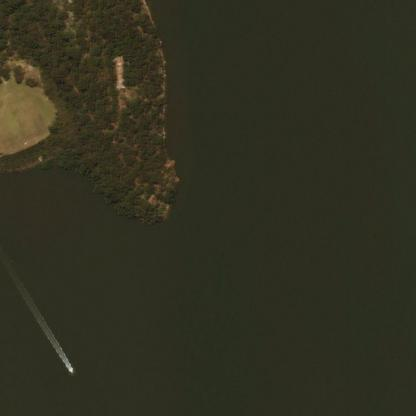ship: (68, 367, 72, 373)
